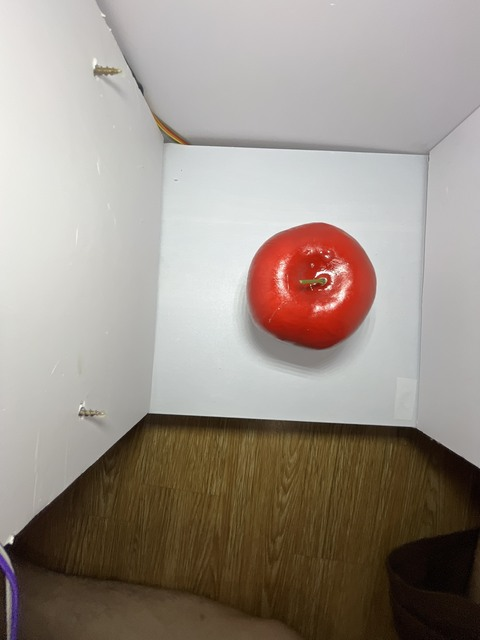Tao: (245, 219, 382, 356)
